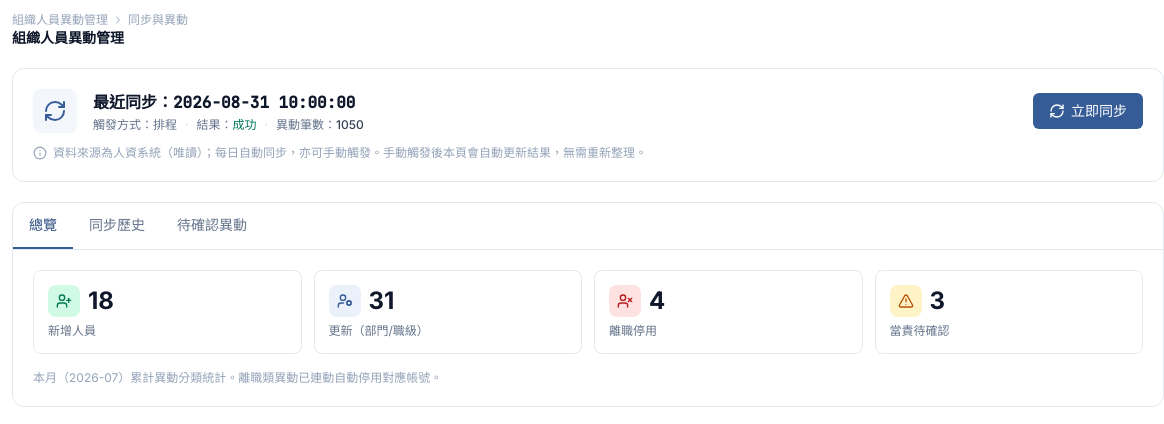
Scenario: OrgSyncPage — 同步狀態/歷史（US-011 回歸，移入頁籤後） › 角色推導被跳過之呈現與一次性放行 › 🔴 status=success 之列仍常駐顯示「角色推導已跳過」與實際筆數（不需展開）
The image size is (1164, 424).
Click the button "同步歷史" at (117, 226), box x1=73 y1=203 x2=161 y2=249
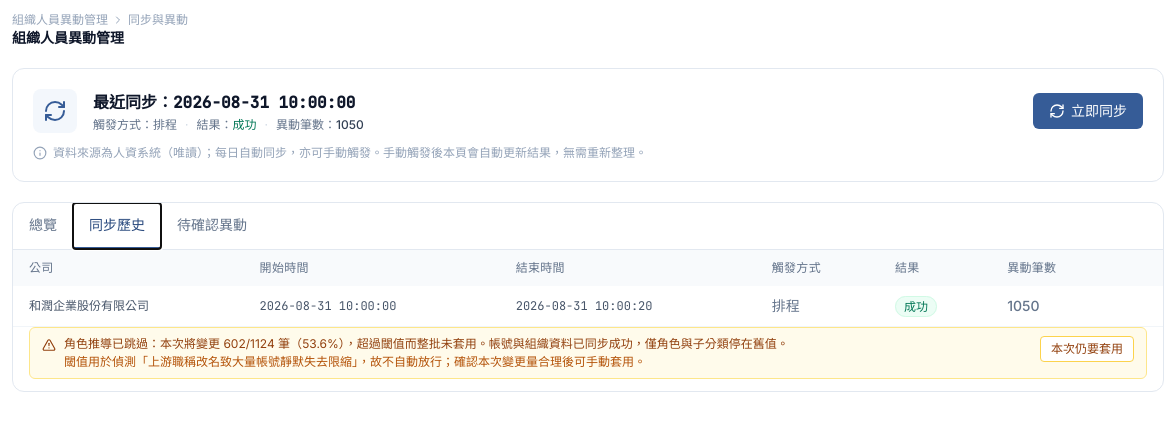
Expected: the text "角色推導已跳過" is shown, x1=64 y1=336 x2=148 y2=351
Expected: the text "602/1124" is shown, x1=64 y1=336 x2=789 y2=351
Expected: the text "53.6%" is shown, x1=302 y1=336 x2=339 y2=351
